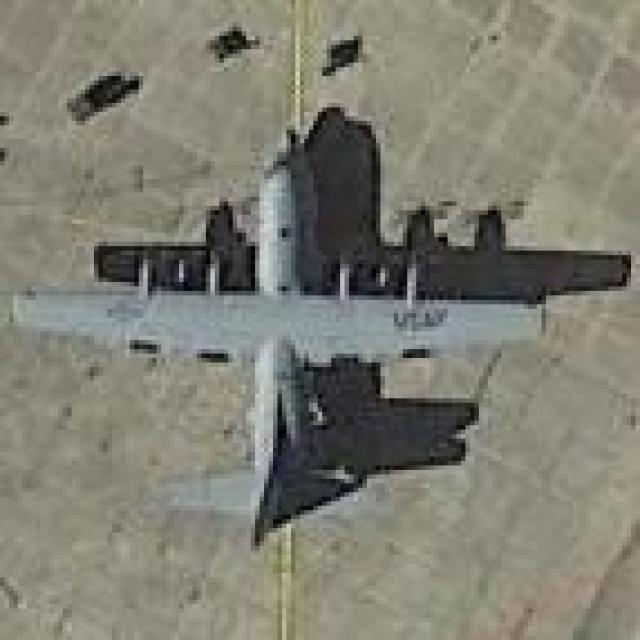C-130_TopDown: (4, 99, 634, 549)
